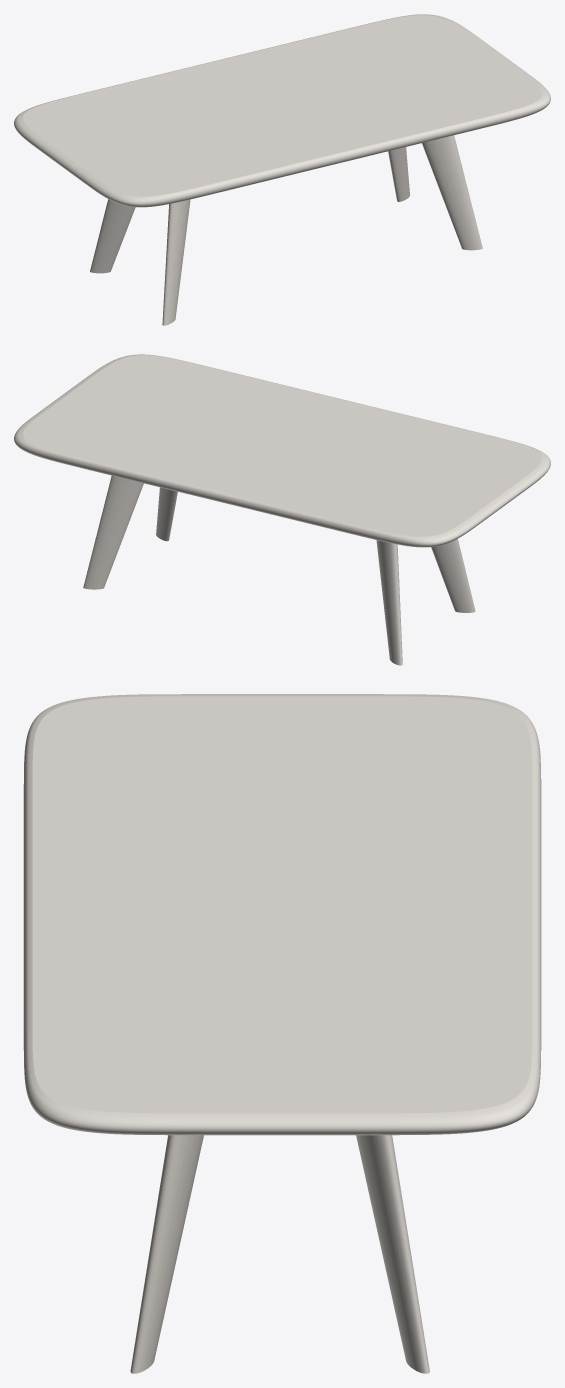
Rendered from pearlwhite_softrecta_round_ferdinantwalnut.glb.
3 views of the same model, one above another, from view 1: azimuth 30°, elevation 25°; view 2: azimuth 150°, elevation 25°; view 3: azimuth 270°, elevation 25° (orthographic). The views are drawn at different scales.
Visible parts, largest first — view 1: round_softrecta, ferdinandwalnut; view 2: round_softrecta, ferdinandwalnut; view 3: round_softrecta, ferdinandwalnut.
Part boxes in pixels (x1=…): round_softrecta: x1=14, y1=14, x2=550, y2=207; ferdinandwalnut: x1=90, y1=135, x2=482, y2=325; round_softrecta: x1=14, y1=354, x2=550, y2=547; ferdinandwalnut: x1=83, y1=475, x2=475, y2=665; round_softrecta: x1=23, y1=694, x2=541, y2=1135; ferdinandwalnut: x1=130, y1=1135, x2=429, y2=1373.
Bounding box in the file's own units: 7.5 × 2.51 × 3.8.
1 material, 1 textured.
